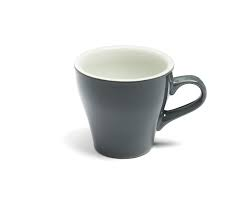cup: (71, 42, 210, 163)
